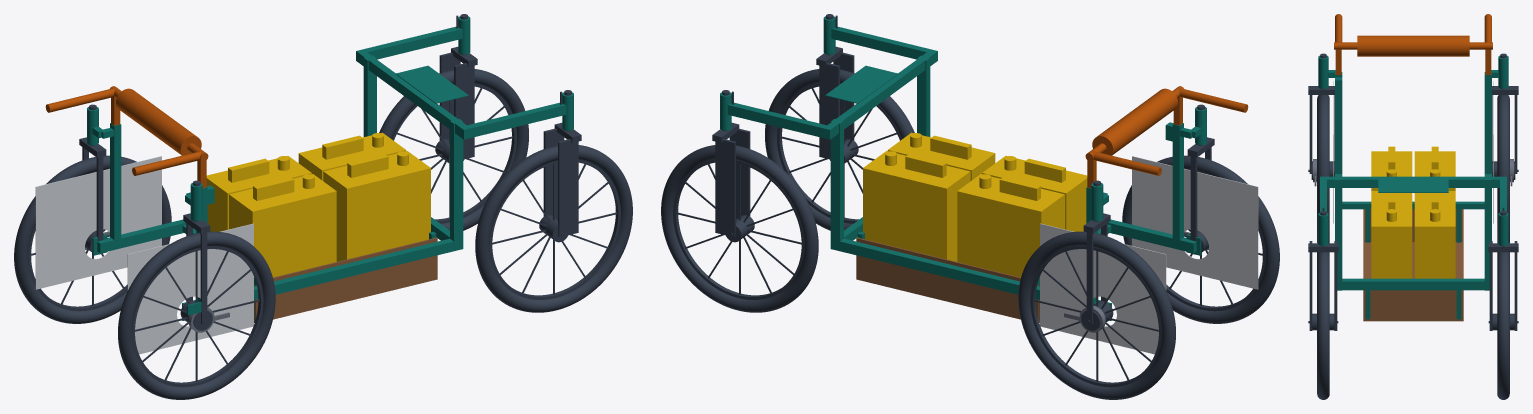
3 renders of one model, left to right at view 1: azimuth 30°, elevation 25°; view 2: azimuth 150°, elevation 25°; view 3: azimuth 270°, elevation 25°, orthographic. The views are drawn at different scales.
Parts seen in each view (by area): view 1: 20 L jerrycan (×3), Steel frame with assist mounts, Front wheel on swivel fork (x2), Rear wheel and fixed fork, 26 in (x2), Skirt guard (left), Skirt guard (x2), Front wheel on swivel fork (left), Rear wheel and fixed fork (left), Padded cradle, Hip bar and hand grips, 20 L jerrycan (x4, user's own); view 2: Steel frame with assist mounts, 20 L jerrycan (×3), Front wheel on swivel fork (left), Rear wheel and fixed fork (left), Skirt guard (x2), Skirt guard (left), 20 L jerrycan (x4, user's own), Front wheel on swivel fork (x2), Rear wheel and fixed fork, 26 in (x2), Padded cradle, Hip bar and hand grips; view 3: Steel frame with assist mounts, 20 L jerrycan (×3), Padded cradle, Hip bar and hand grips, Front wheel on swivel fork (x2), Front wheel on swivel fork (left), Rear wheel and fixed fork, 26 in (x2), Rear wheel and fixed fork (left), 20 L jerrycan (x4, user's own).
Boxes of the visible parts, x1,y1,x2,y2 form: 20 L jerrycan (×3): [229, 132, 430, 277]; Steel frame with assist mounts: [87, 16, 573, 320]; Front wheel on swivel fork (x2): [475, 90, 632, 312]; Rear wheel and fixed fork, 26 in (x2): [118, 180, 275, 399]; Skirt guard (left): [35, 156, 161, 289]; Skirt guard (x2): [127, 223, 253, 354]; Front wheel on swivel fork (left): [379, 14, 528, 230]; Rear wheel and fixed fork (left): [14, 104, 171, 323]; Padded cradle: [254, 237, 437, 322]; Hip bar and hand grips: [45, 86, 208, 188]; 20 L jerrycan (x4, user's own): [206, 156, 311, 231]; Steel frame with assist mounts: [720, 16, 1206, 320]; 20 L jerrycan (×3): [863, 132, 1087, 261]; Front wheel on swivel fork (left): [661, 90, 818, 312]; Rear wheel and fixed fork (left): [1018, 180, 1175, 399]; Skirt guard (x2): [1132, 156, 1258, 289]; Skirt guard (left): [1040, 223, 1166, 354]; 20 L jerrycan (x4, user's own): [957, 174, 1064, 277]; Front wheel on swivel fork (x2): [765, 14, 914, 230]; Rear wheel and fixed fork, 26 in (x2): [1122, 104, 1279, 323]; Padded cradle: [856, 237, 1039, 322]; Hip bar and hand grips: [1085, 86, 1248, 188]; Steel frame with assist mounts: [1318, 55, 1508, 319]; 20 L jerrycan (×3): [1371, 146, 1455, 278]; Padded cradle: [1363, 209, 1463, 321]; Hip bar and hand grips: [1334, 14, 1492, 74]; Front wheel on swivel fork (x2): [1308, 207, 1338, 399]; Front wheel on swivel fork (left): [1488, 207, 1518, 399]; Rear wheel and fixed fork, 26 in (x2): [1308, 53, 1334, 243]; Rear wheel and fixed fork (left): [1492, 53, 1518, 243]; 20 L jerrycan (x4, user's own): [1414, 146, 1455, 190].
Size of the model in its own units: 2.2 by 0.9949 by 0.9.
